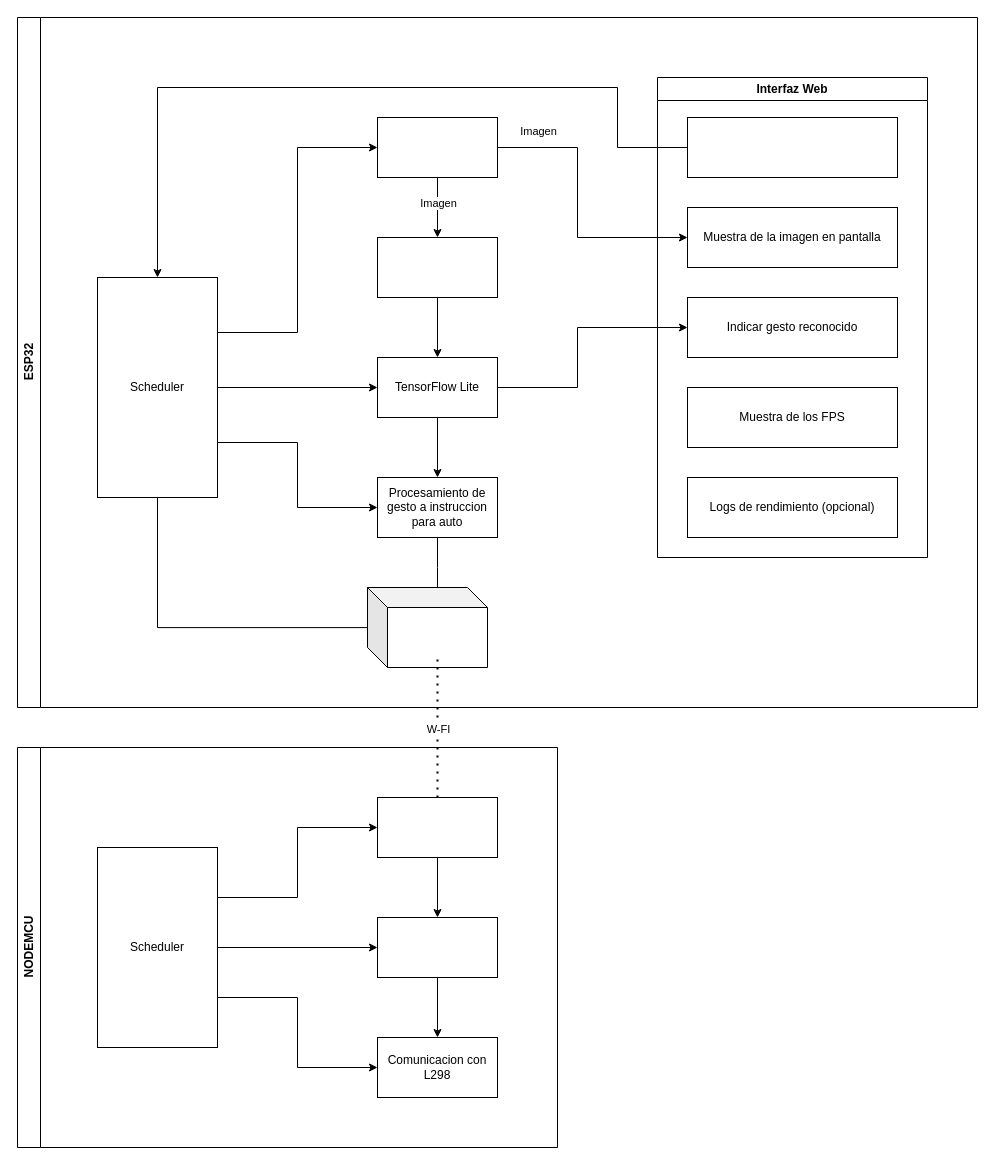
Image size: 995x1165. Some labels were removed from this diagram. Each missing label, with the box of its shape:
ACCESS POINT (montada en ESP32): (366, 586, 488, 668)
Activacion del sistema: (686, 116, 898, 178)
Conversion de imagen: (376, 236, 498, 298)
Modulo de comunicacion wifi: (376, 796, 498, 858)
OV7670 Funciones de uso de la cámara.: (376, 116, 498, 178)
Procesamiento de instruccion a movimiento para los motores: (376, 916, 498, 978)
